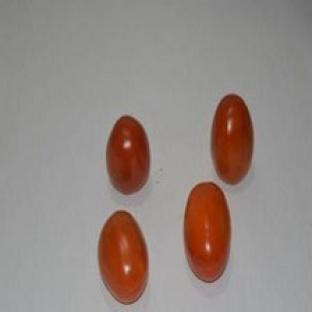Tomato: (184, 183, 231, 281), (98, 211, 147, 303), (211, 95, 253, 183), (106, 116, 150, 193)
